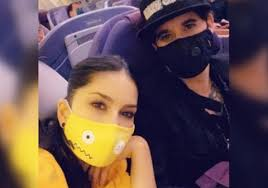mask: (65, 113, 135, 166), (158, 30, 213, 78)
